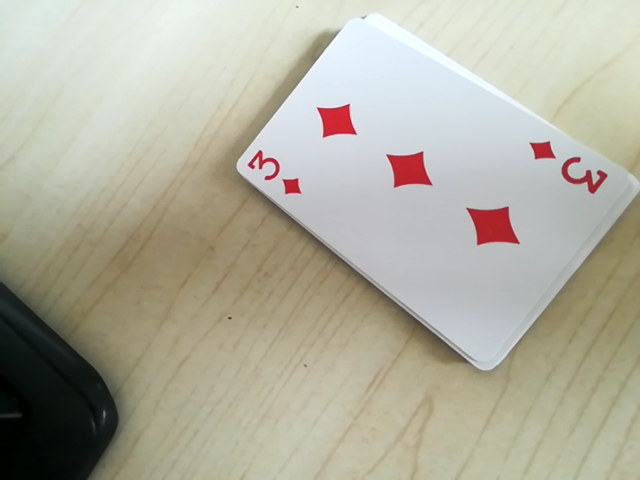fk 3: (524, 140, 610, 199), (235, 148, 306, 200)
